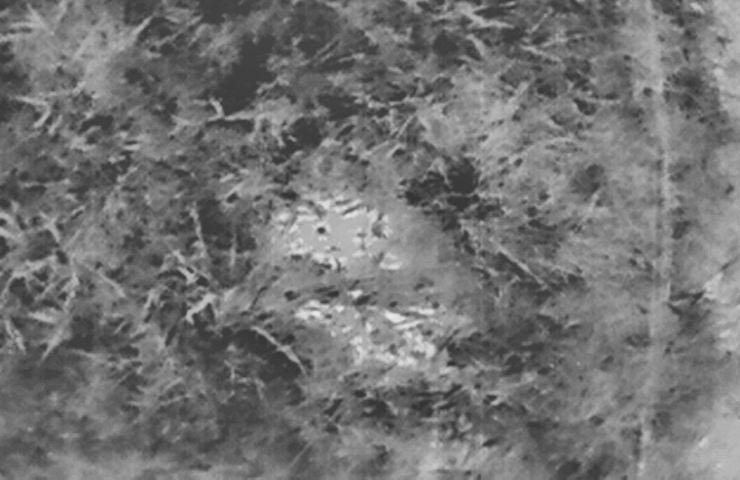landmines: (269, 192, 407, 273)
